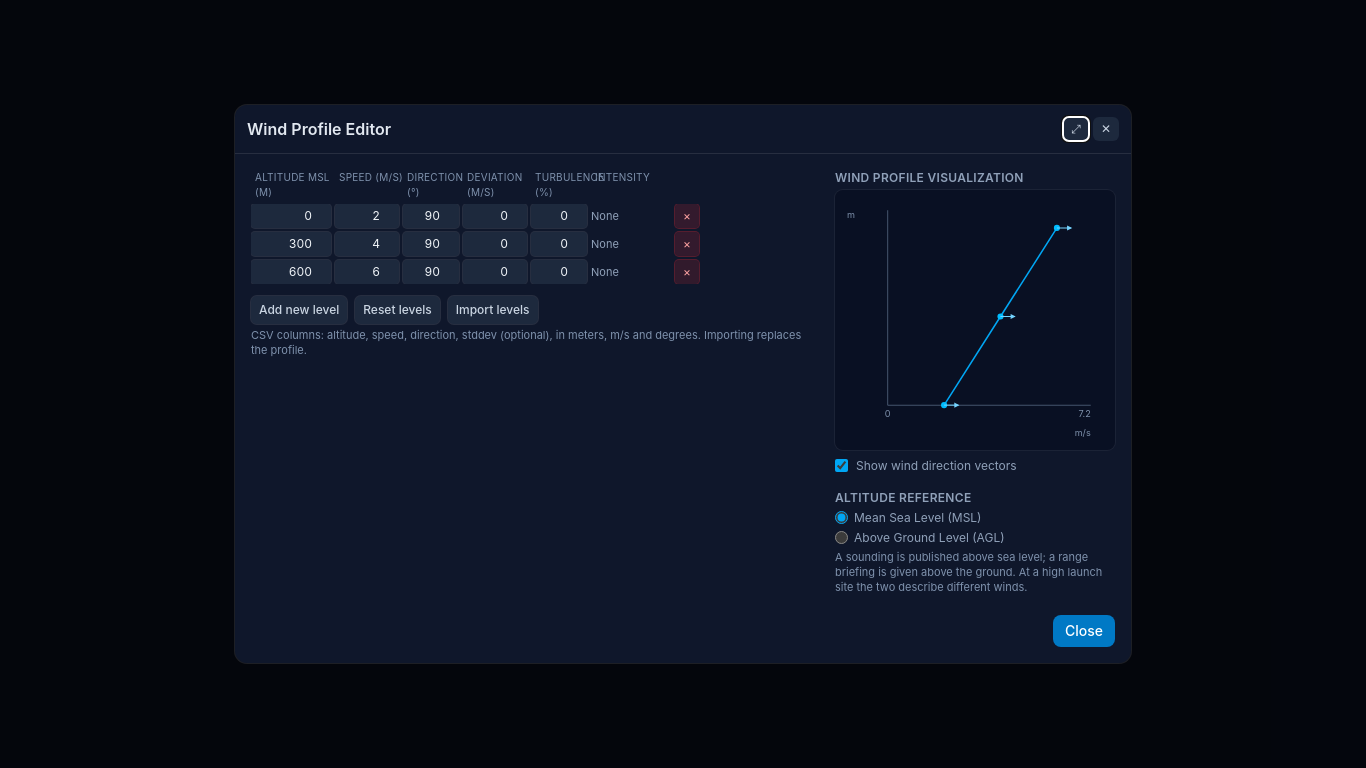
WindProfileDialog rows › flags a row repeating an earlier altitude, and says why
This screenshot has width=1366, height=768.
Replace the text in the number field named "Altitude 2" with "0": (291, 244) [251,232,331,256]
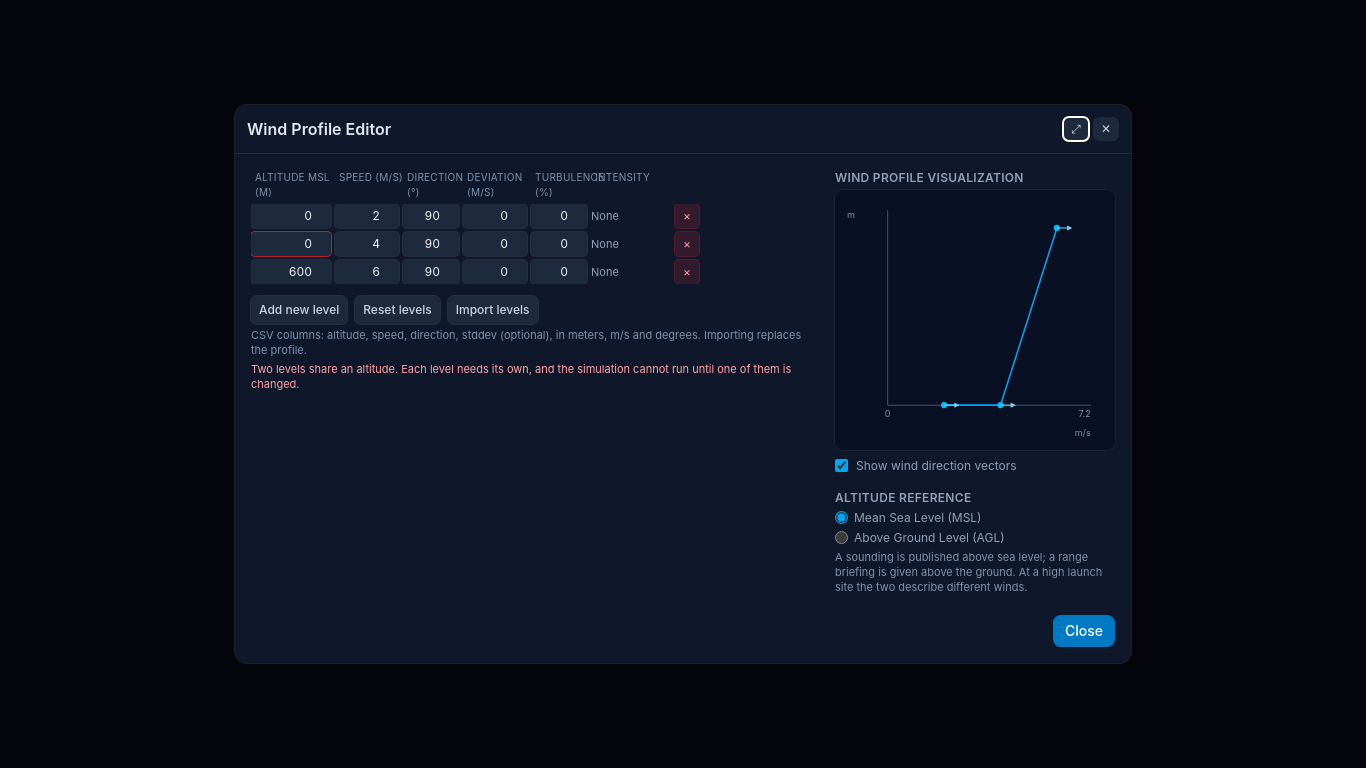
Expected: the message shows "Two levels share an altitude", [251,362,791,391]
